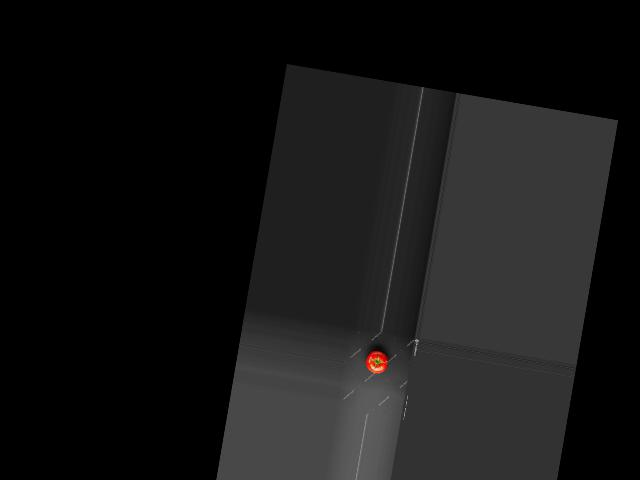tomato: (364, 349, 390, 375)
